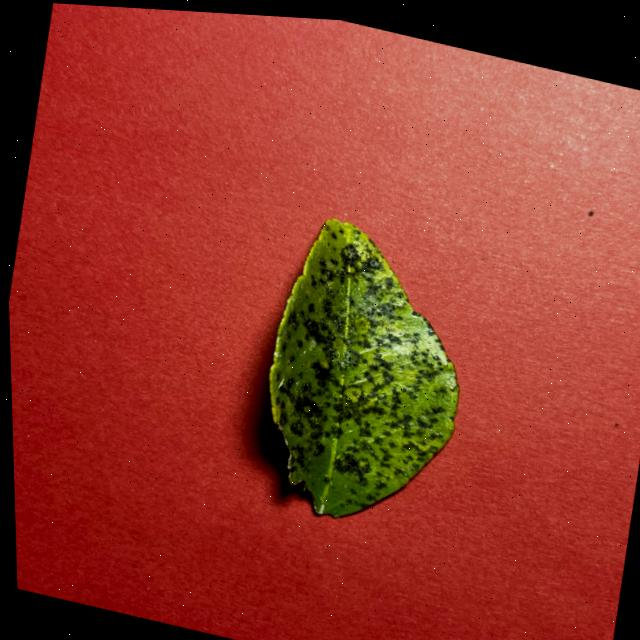sooty_mold: (268, 218, 457, 515)
